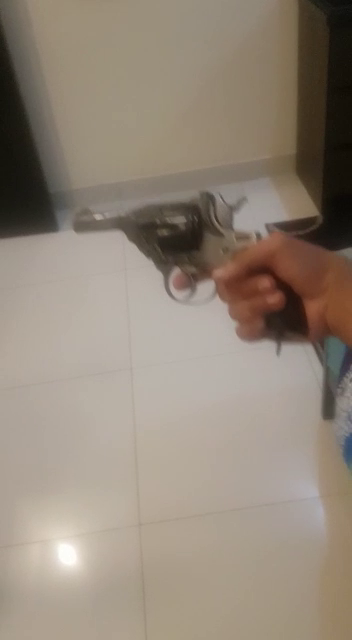handgun: (72, 174, 259, 275)
